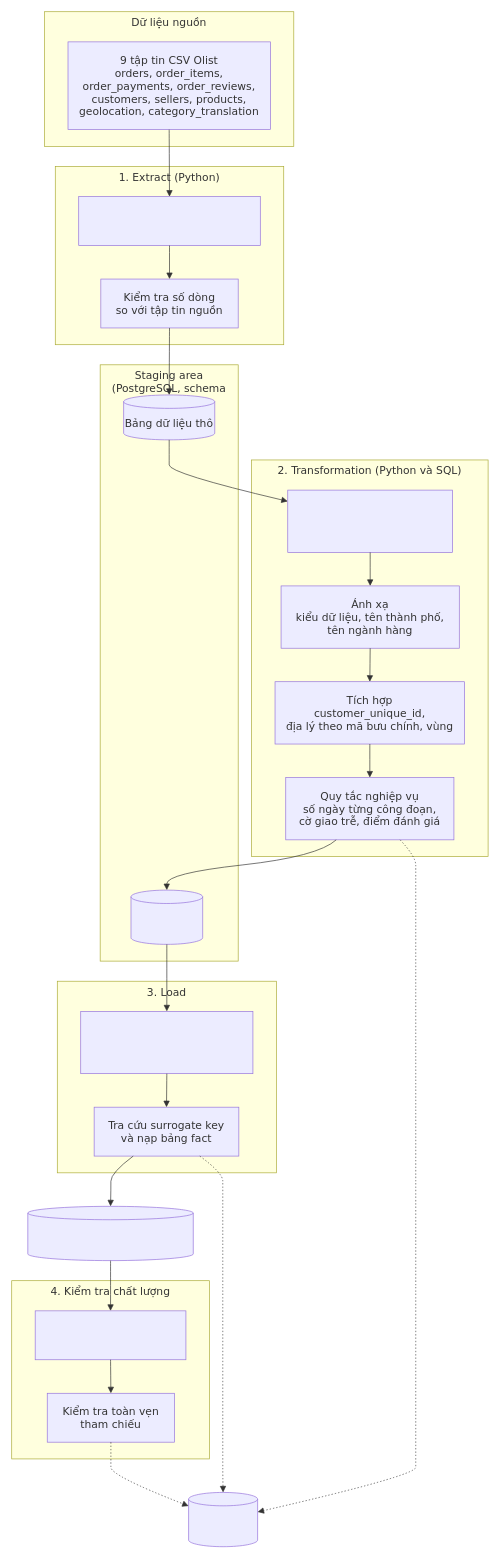
Some shapes in this 500 by 1558 pixel diagram are drawn without their labels. Here are the shapes that lost their labels. From the top down, the centre of each, then its label:
the point at 169,221: Đọc các tập tin CSV giữ mã bưu chính dạng chuỗi
the point at 370,520: Làm sạch giá trị thiếu, trùng lặp, mốc thời gian bất thường
the point at 166,916: Bảng dữ liệu đã làm sạch
the point at 166,1042: Nạp các bảng chiều Date, State, City, Category, Product, Customer, Seller
the point at 110,1233: Data Mart (PostgreSQL, snowflake schema)
the point at 110,1335: Đối soát số dòng, tổng tiền, số đơn hàng
the point at 223,1519: Metadata và nhật ký ETL
